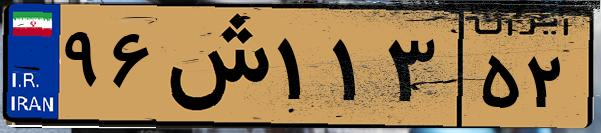1: (270, 28, 330, 110), (330, 28, 385, 110)
2: (525, 38, 570, 115)
3: (385, 28, 445, 110)
5: (475, 38, 525, 113)
6: (110, 28, 158, 98)
9: (57, 26, 110, 100)
ش: (158, 12, 270, 120)
